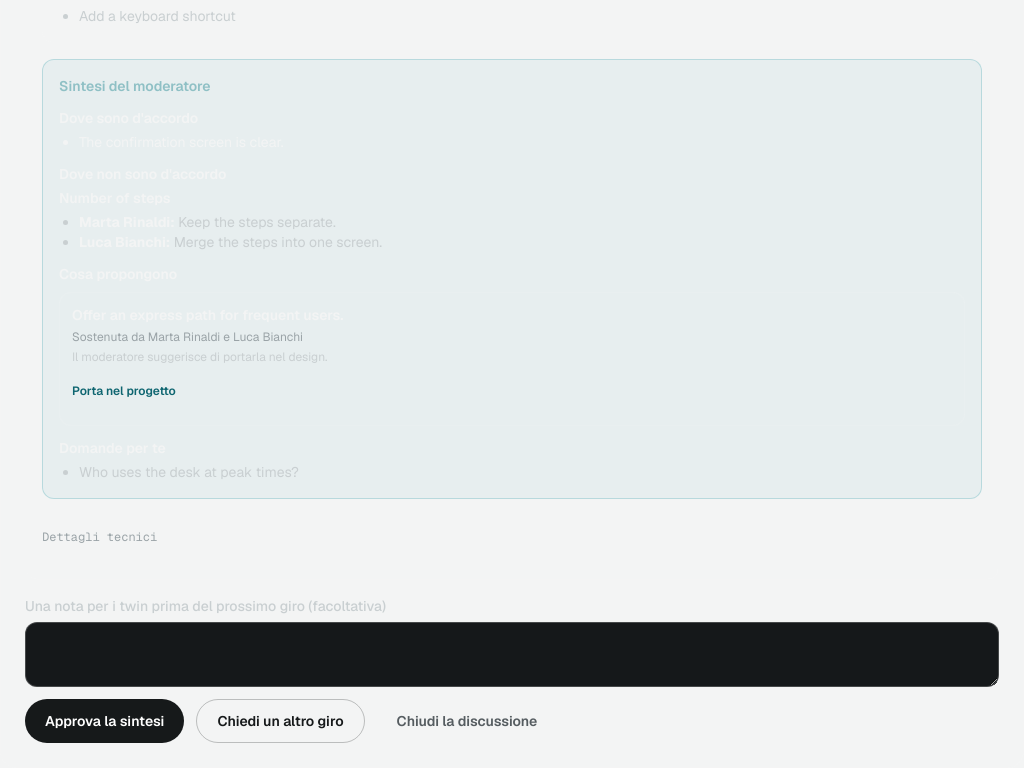
Scenario: ProjectDesignDiscussionPanel › asks for another round with a note, then approves the synthesis
This screenshot has width=1024, height=768.
(page scrolled)
In the text box with test id "discussion-round-note": (512, 654) x1=25 y1=622 x2=999 y2=687, type "Parlate dei turni di notte"
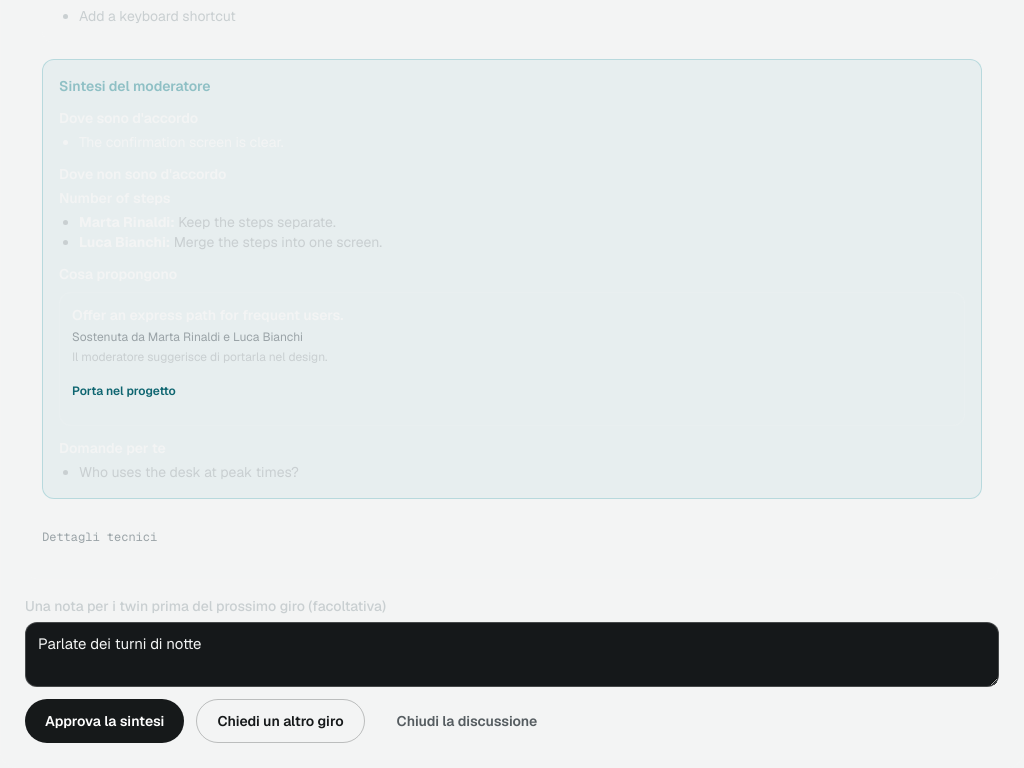
Click the button with test id "discussion-next-round": (280, 721) x1=196 y1=699 x2=365 y2=743
(page scrolled)
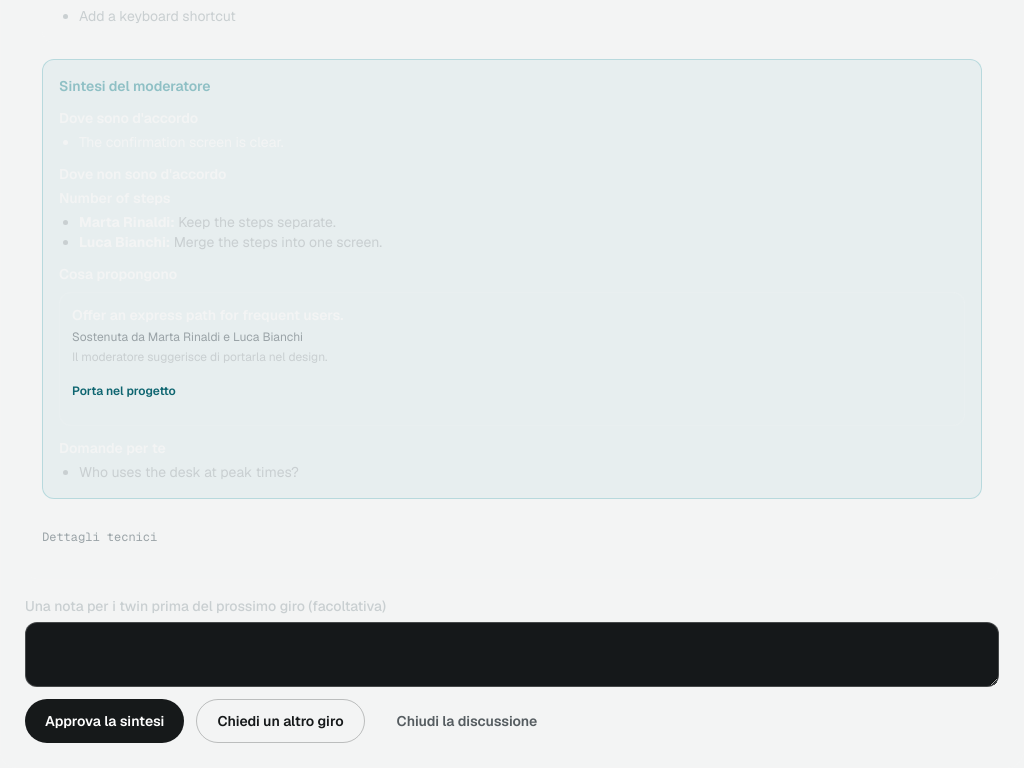
Now the number of elements with test id "discussion-round" is 2
Now the text box with test id "discussion-round-note" is empty, box x1=25 y1=622 x2=999 y2=687
Click the button with test id "discussion-approve": (105, 721) x1=25 y1=699 x2=184 y2=743
(page scrolled)
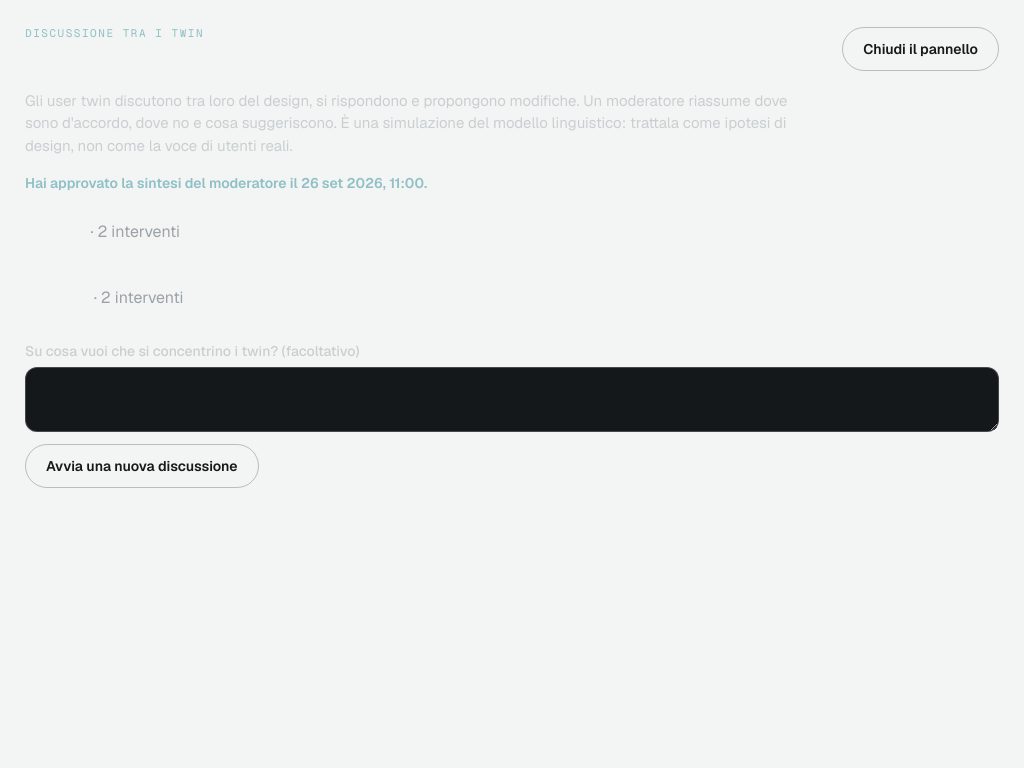
Now the text with test id "discussion-status" shows "Hai approvato la sintesi del moderatore", box x1=25 y1=174 x2=427 y2=192
Now the button with test id "discussion-start-button" reads "Avvia una nuova discussione", box x1=25 y1=444 x2=259 y2=488
